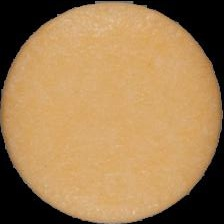69189-0910: (0, 0, 224, 224)
